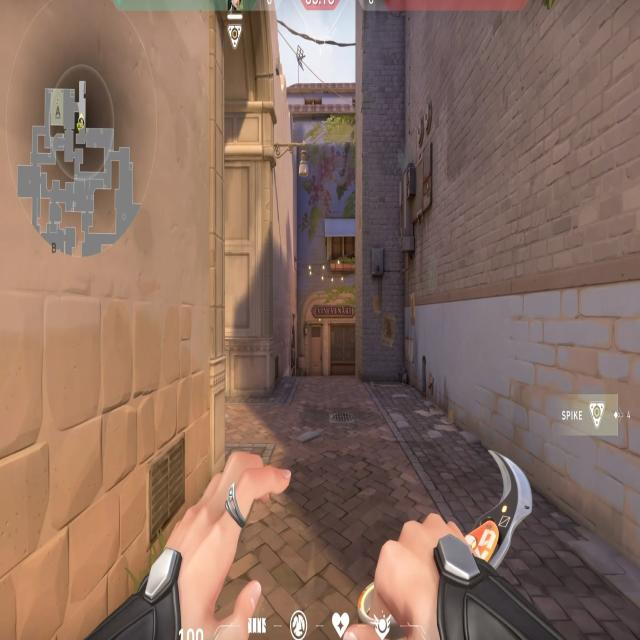Wine: (294, 284, 358, 378)
